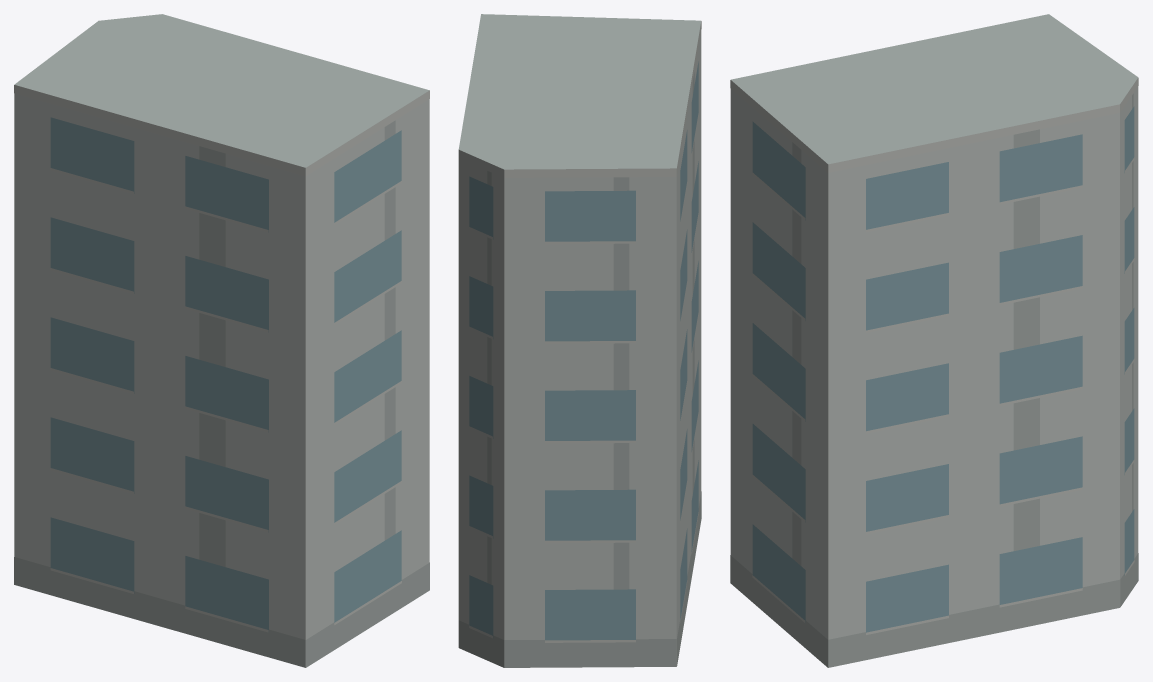
The model's file is survey-upis-32604414.glb.
3 views of the same model, side by side, from view 1: azimuth 30°, elevation 25°; view 2: azimuth 150°, elevation 25°; view 3: azimuth 270°, elevation 25° (orthographic).
Visible parts, largest first — view 1: survey-upis-32604414.tmp; view 2: survey-upis-32604414.tmp; view 3: survey-upis-32604414.tmp.
Part boxes in pixels (box(x1,y1,x2,y2)): survey-upis-32604414.tmp: box(14, 14, 429, 667); survey-upis-32604414.tmp: box(458, 14, 701, 667); survey-upis-32604414.tmp: box(730, 14, 1138, 667).
Bounding box in the file's own units: 9.17 × 14.3 × 10.51.
